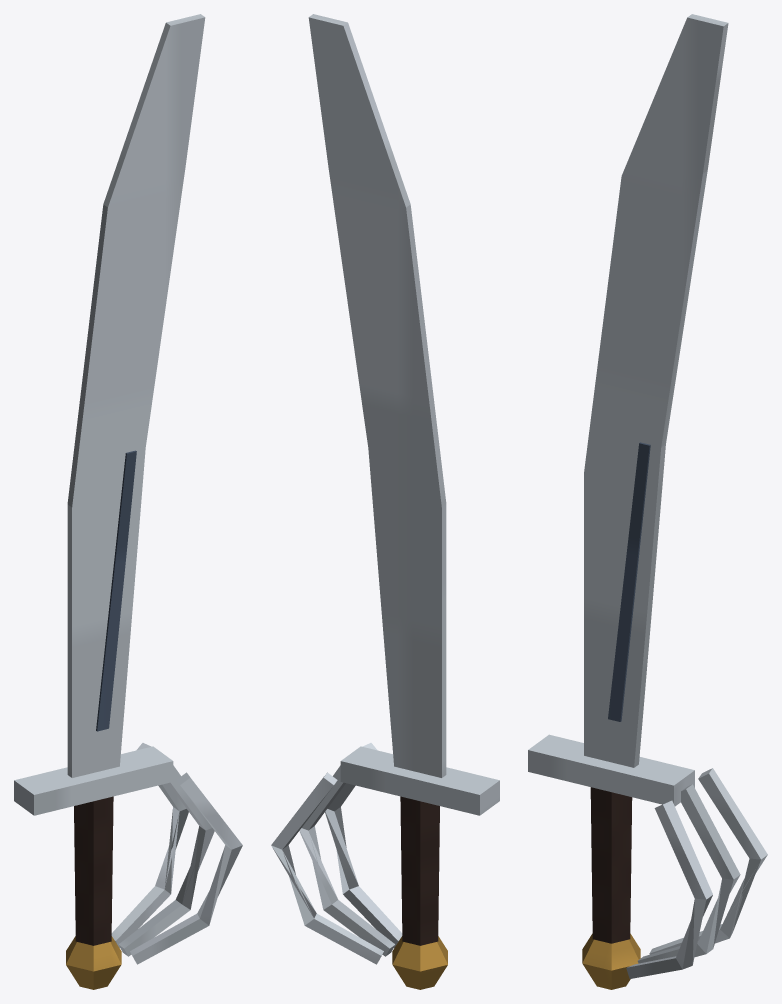
File: SM_Prop_CaptainCutlass_HQ.glb
3 views of the same model, side by side, from view 1: azimuth 30°, elevation 25°; view 2: azimuth 150°, elevation 25°; view 3: azimuth 330°, elevation 25° (orthographic). The views are drawn at different scales.
Visible parts, largest first — view 1: SM_Prop_CaptainCutlass_HQ; view 2: SM_Prop_CaptainCutlass_HQ; view 3: SM_Prop_CaptainCutlass_HQ.
Boxes of the visible parts, left/top/right/bottom form: SM_Prop_CaptainCutlass_HQ: left=14, top=14, right=242, bottom=989; SM_Prop_CaptainCutlass_HQ: left=271, top=14, right=499, bottom=989; SM_Prop_CaptainCutlass_HQ: left=528, top=14, right=767, bottom=989.
Bounding box in the file's own units: 0.1906 × 0.9042 × 0.1023.
1 material, 1 textured.
